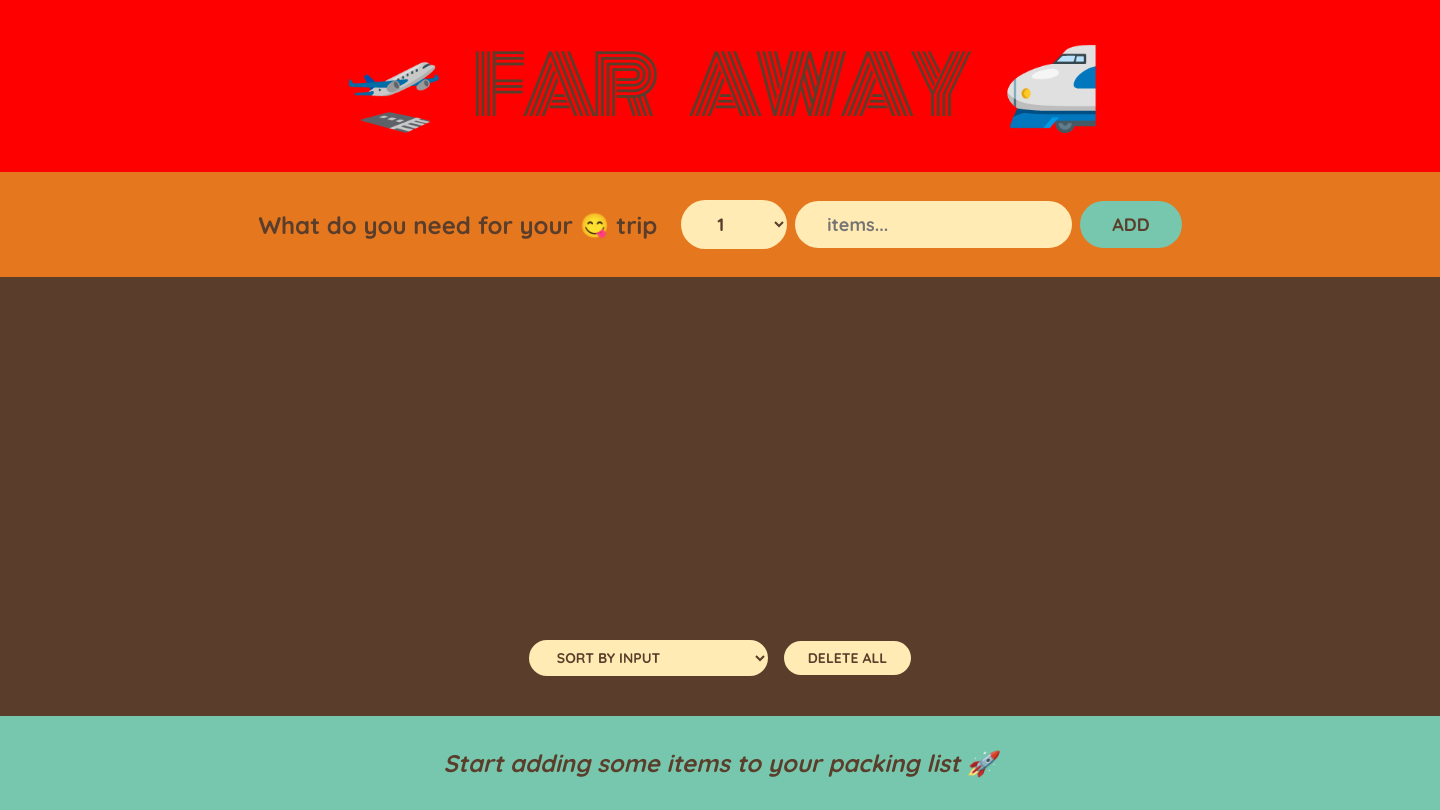
Test: when click the checkbox footer message changes every time
The image size is (1440, 810).
Select "1" in the dropdown with test id "select" at {"x": 734, "y": 224}, box [681, 200, 787, 249]
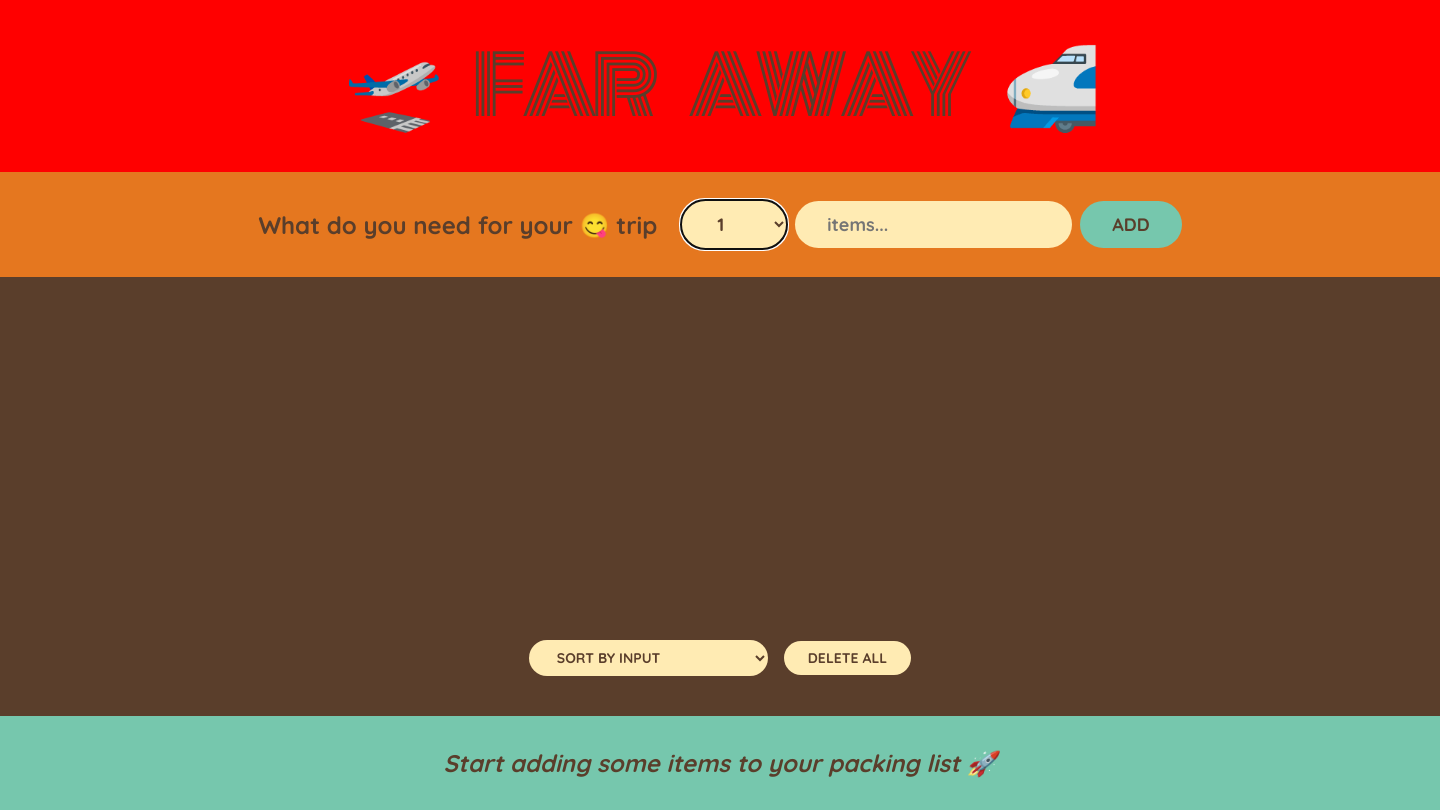
Type "socks" into the field.
click(934, 224); type("socks")  # box [795, 201, 1072, 248]
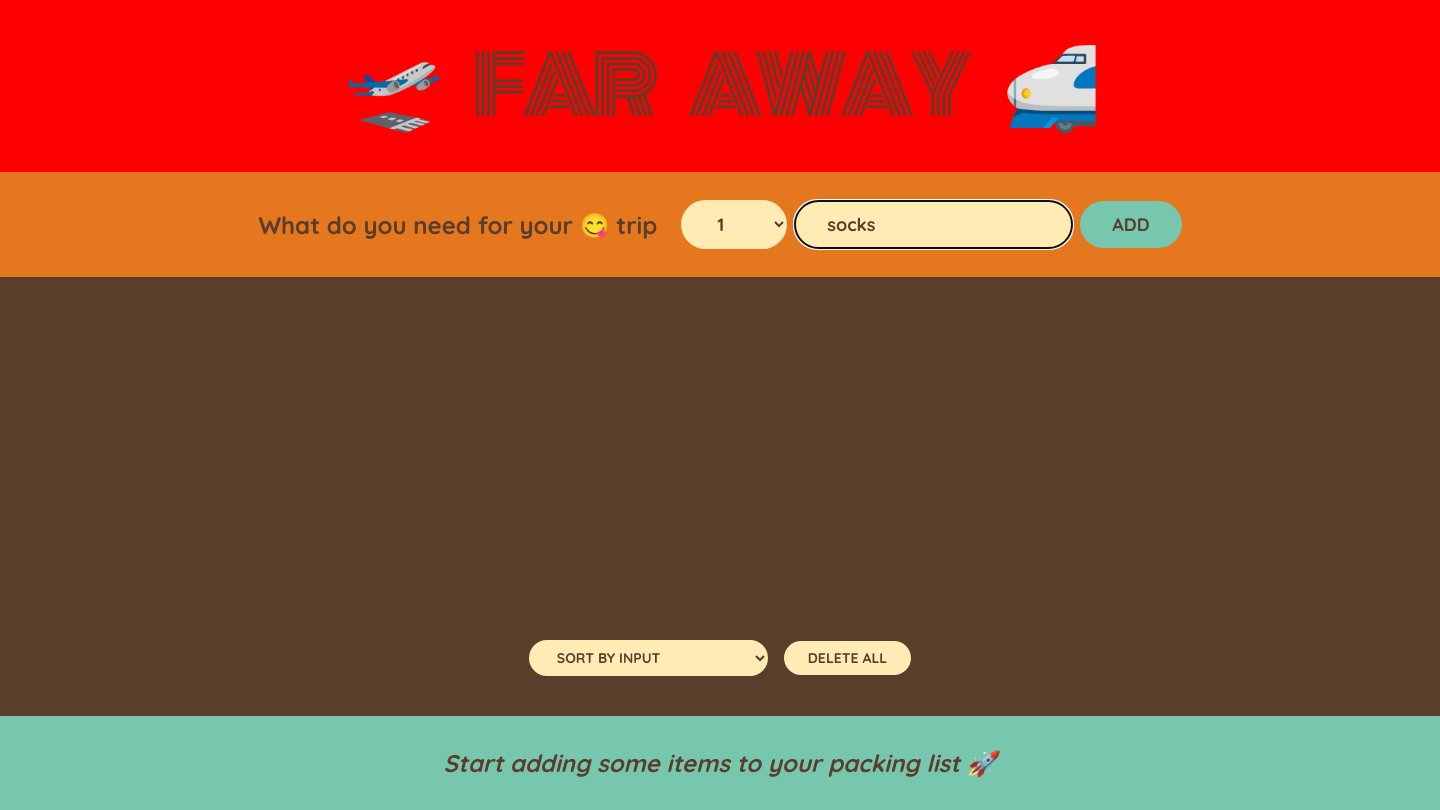
Click the button with test id "addBtn".
click(1131, 224)  # box [1080, 201, 1182, 248]
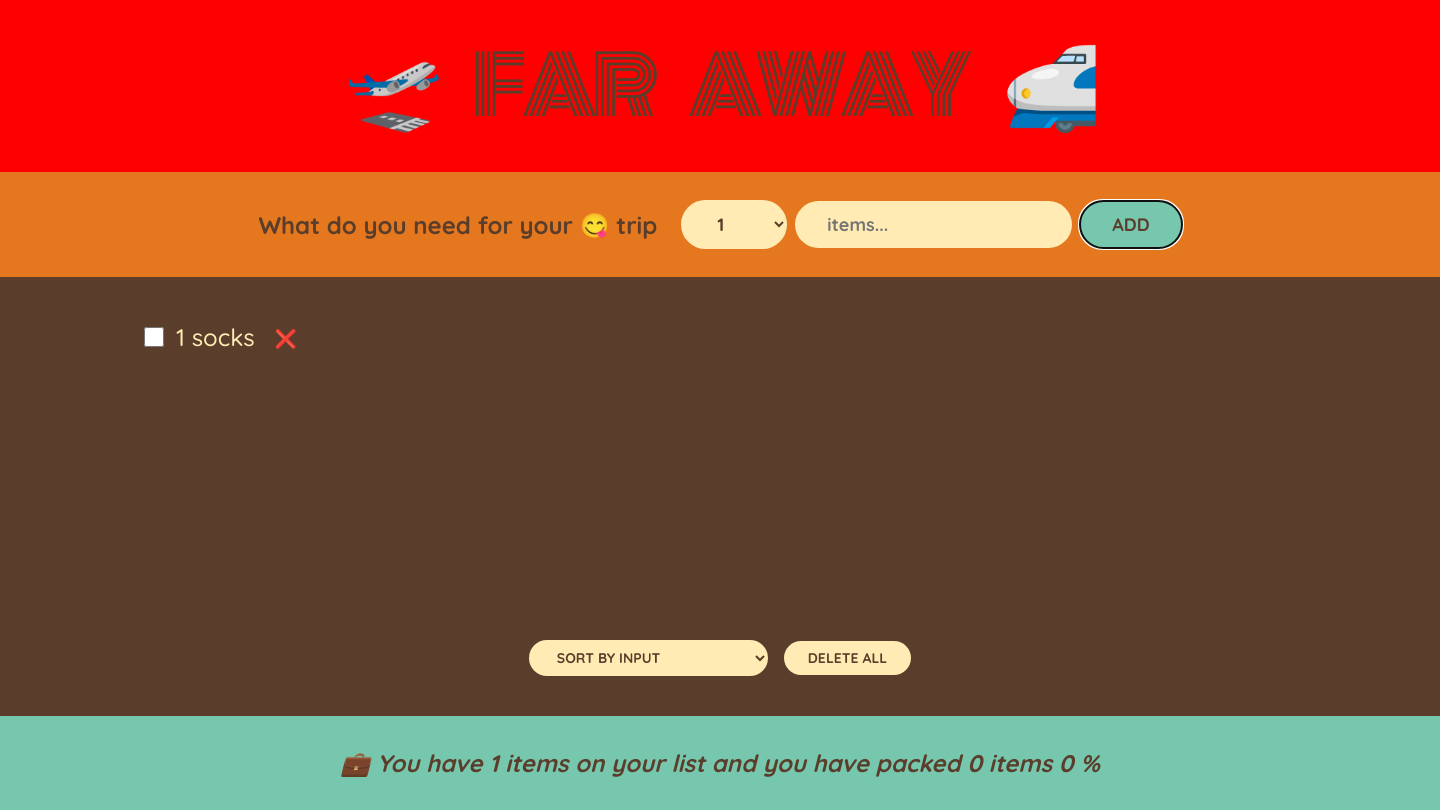
Click the button "❌".
click(286, 338)  # box [266, 319, 305, 358]
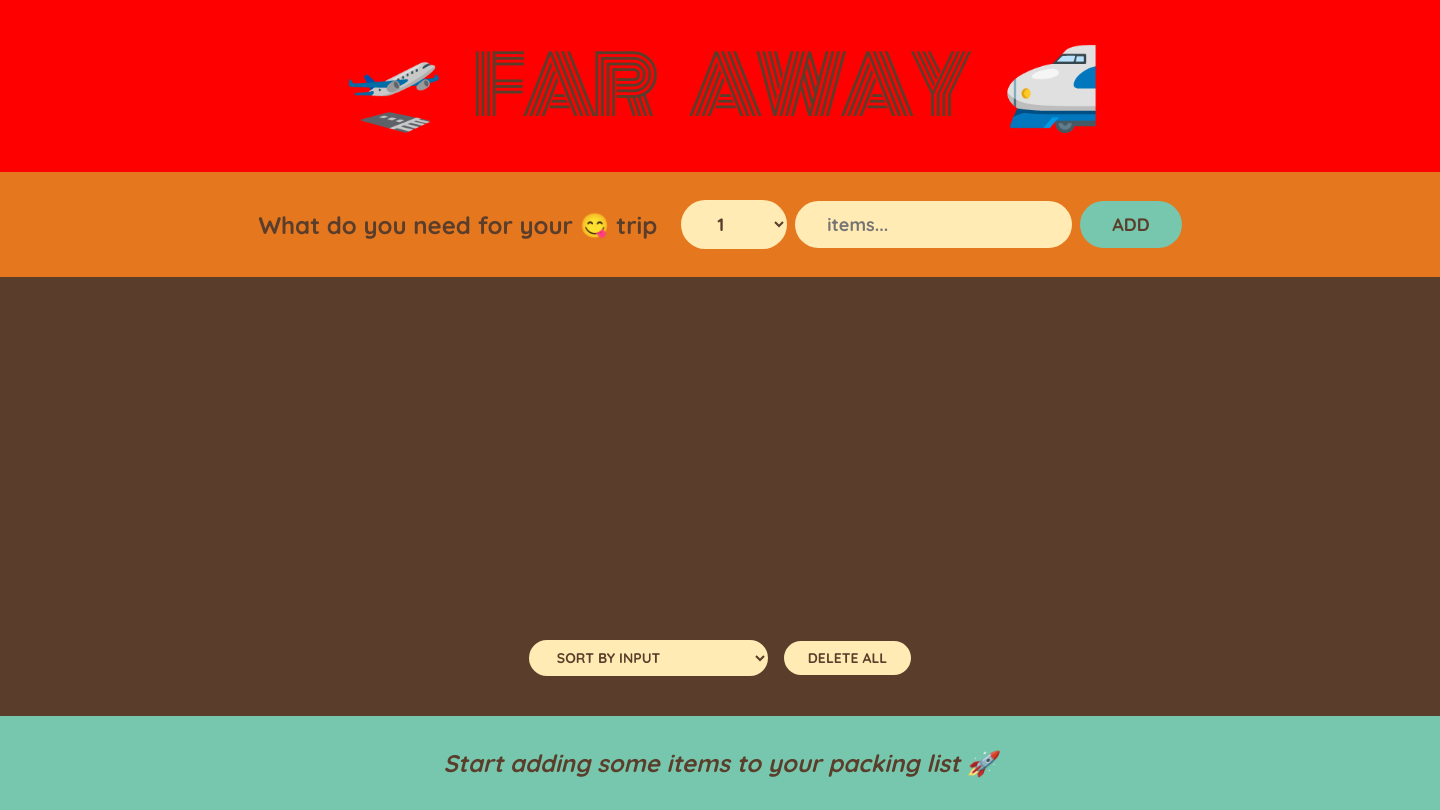
Result: the text with test id "footerMessage" reads "Start adding some items to your packing list 🚀" at [444, 748, 996, 778]
